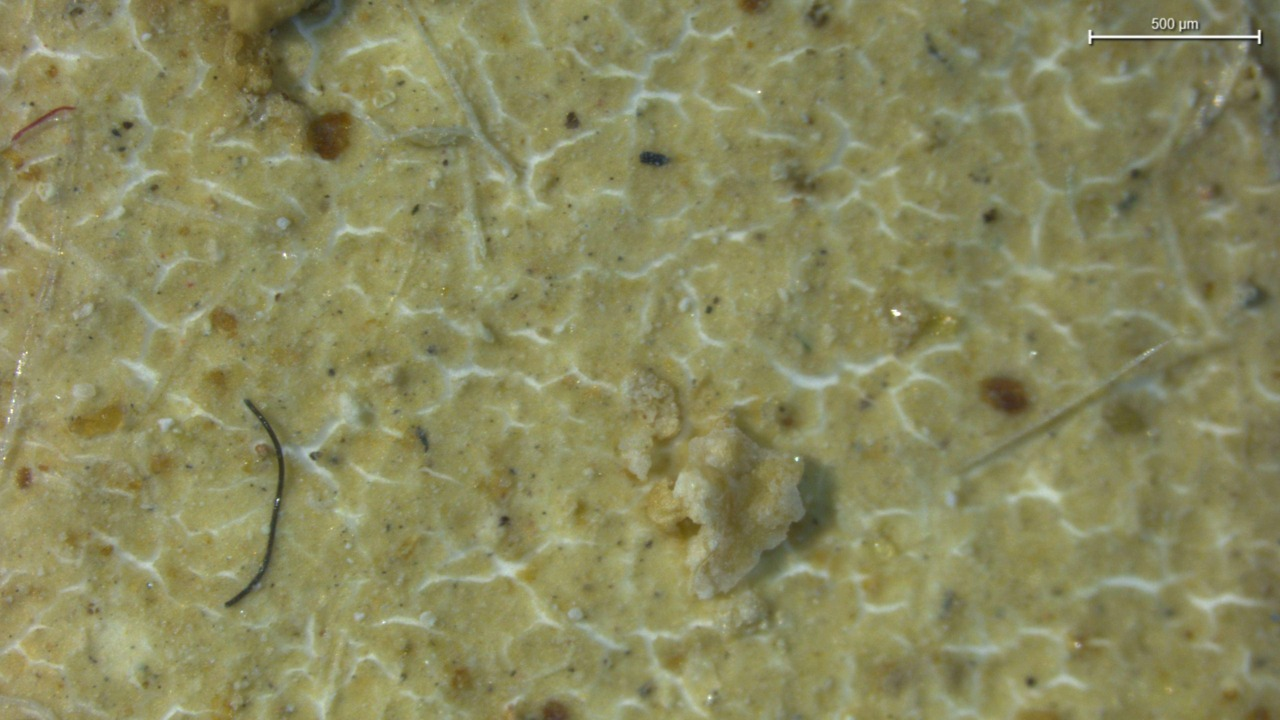microplastic_fragment: (673, 428, 806, 601), (622, 371, 679, 483)
